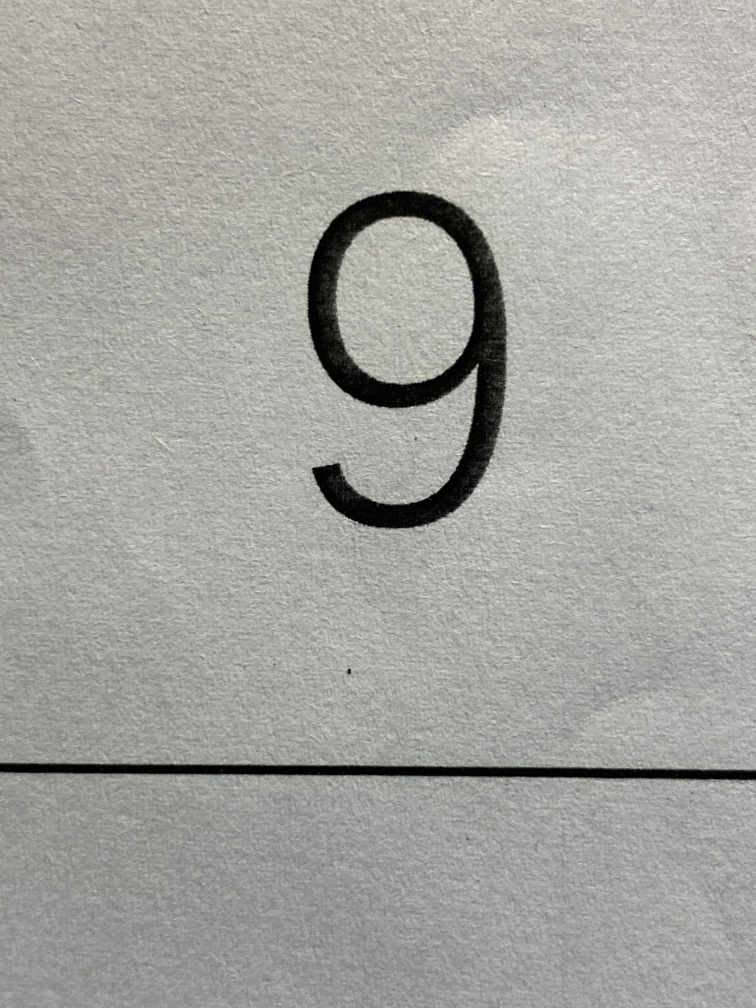nine: (232, 111, 581, 614)
